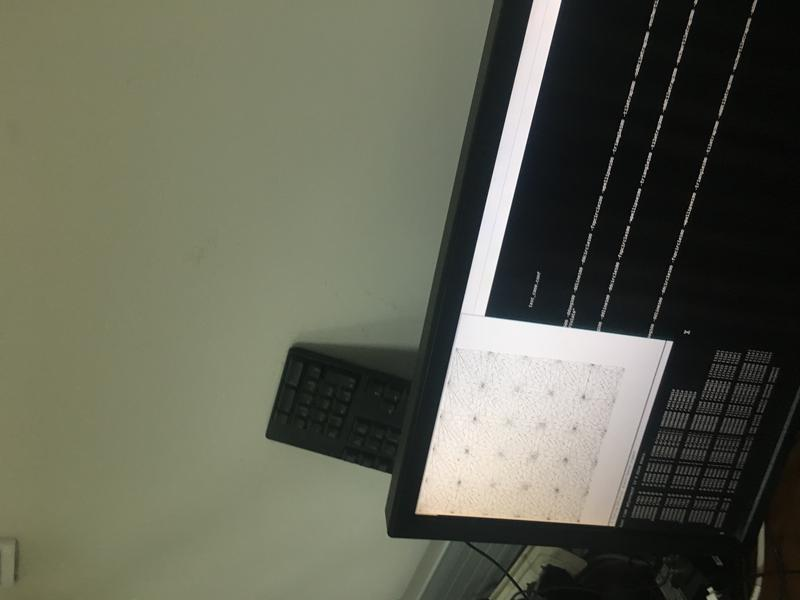xrandr_pass: (397, 291, 687, 538)
